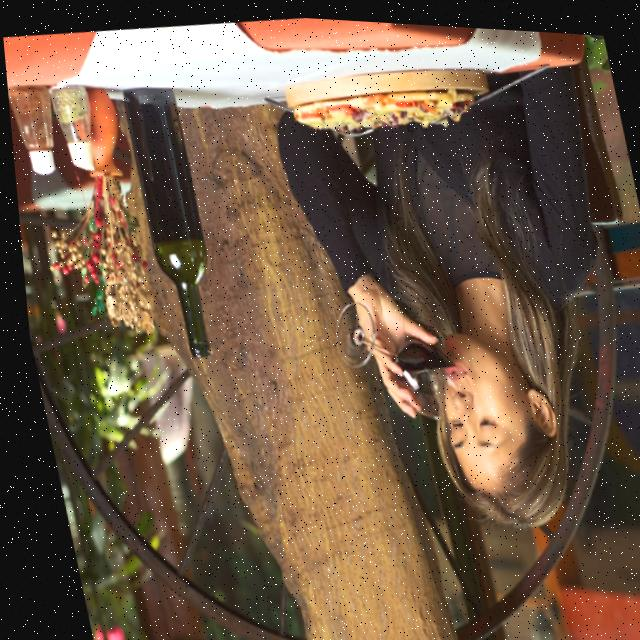eating-person: (245, 30, 640, 560)
